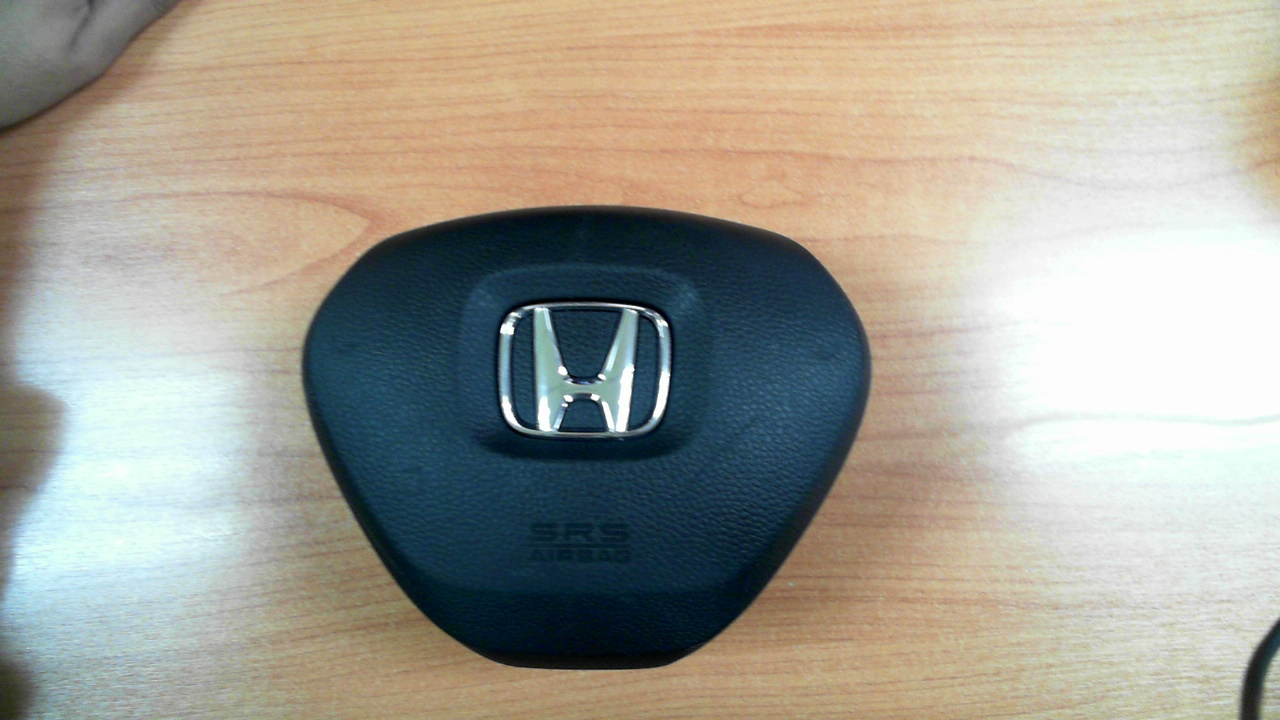Airbag: (301, 205, 872, 672)
Honda: (497, 301, 672, 439)
